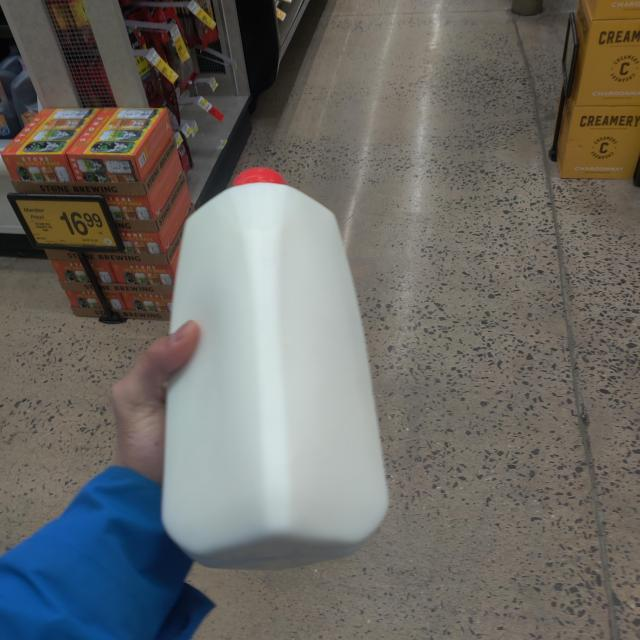Milk: (150, 154, 414, 570)
